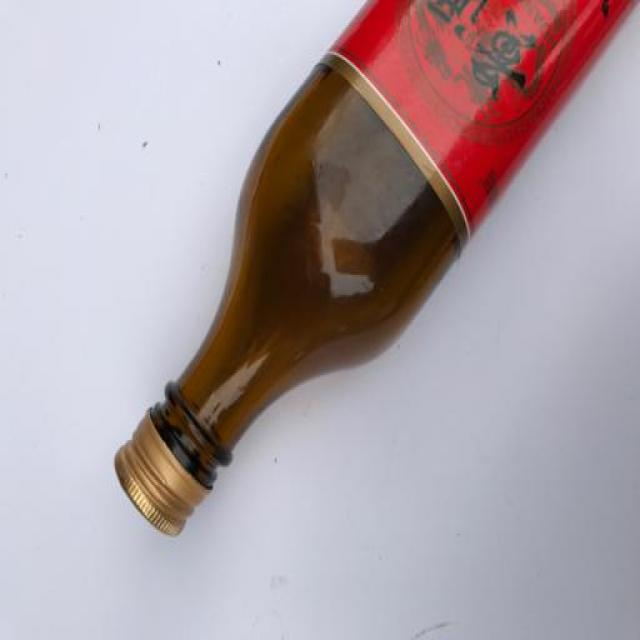glass: (101, 1, 640, 576)
